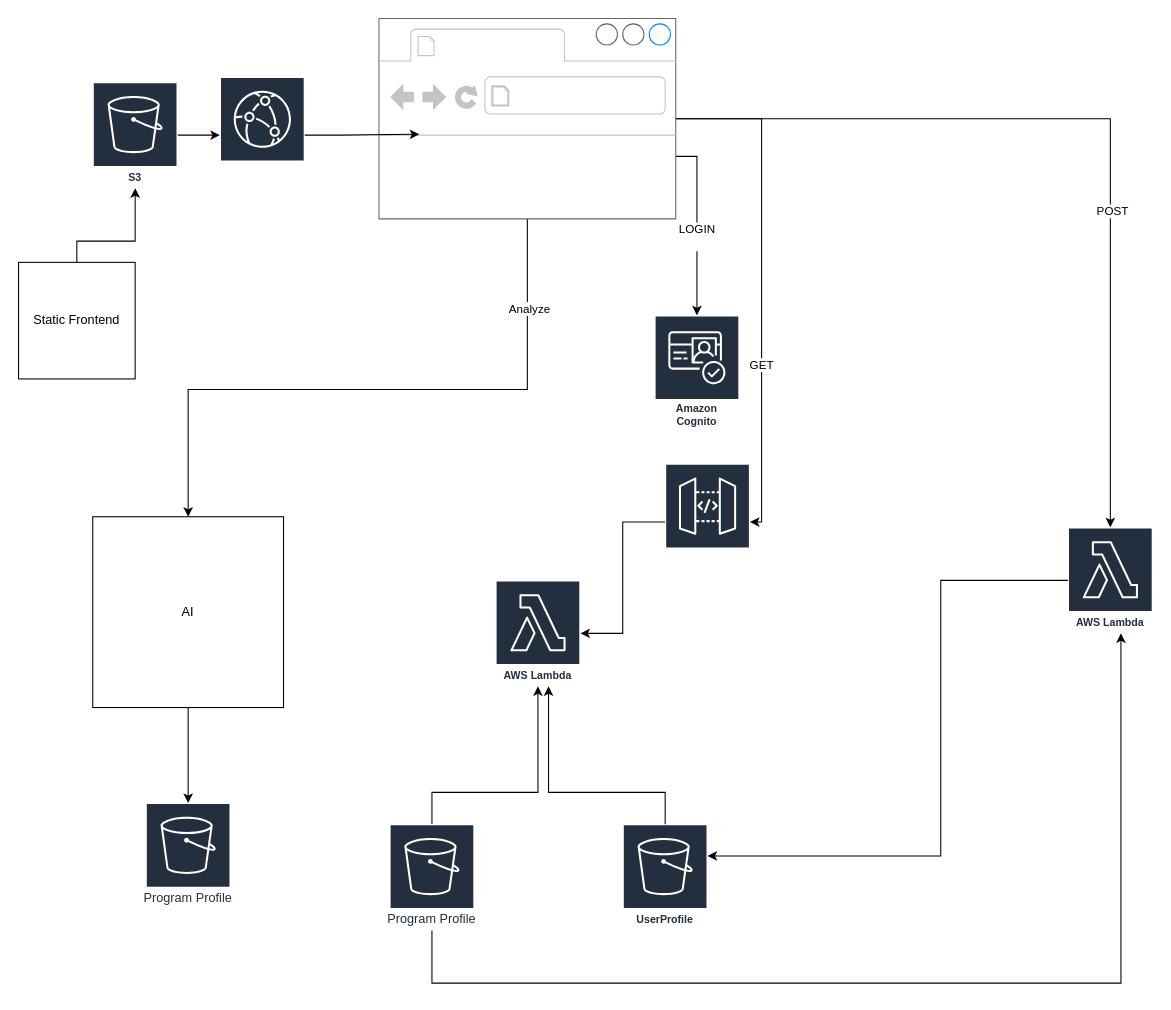
This 1171x1010 diagram has some shape labels left out. Here are the shapes that lost their labels. From the top down, the centre of each, then its label:
At point (500, 44): "Page 1".
At point (649, 95): "pulse-tact.com".
At point (262, 134): "Amazon Cloudfront".
At point (707, 521): "Amazon API Gateway".
